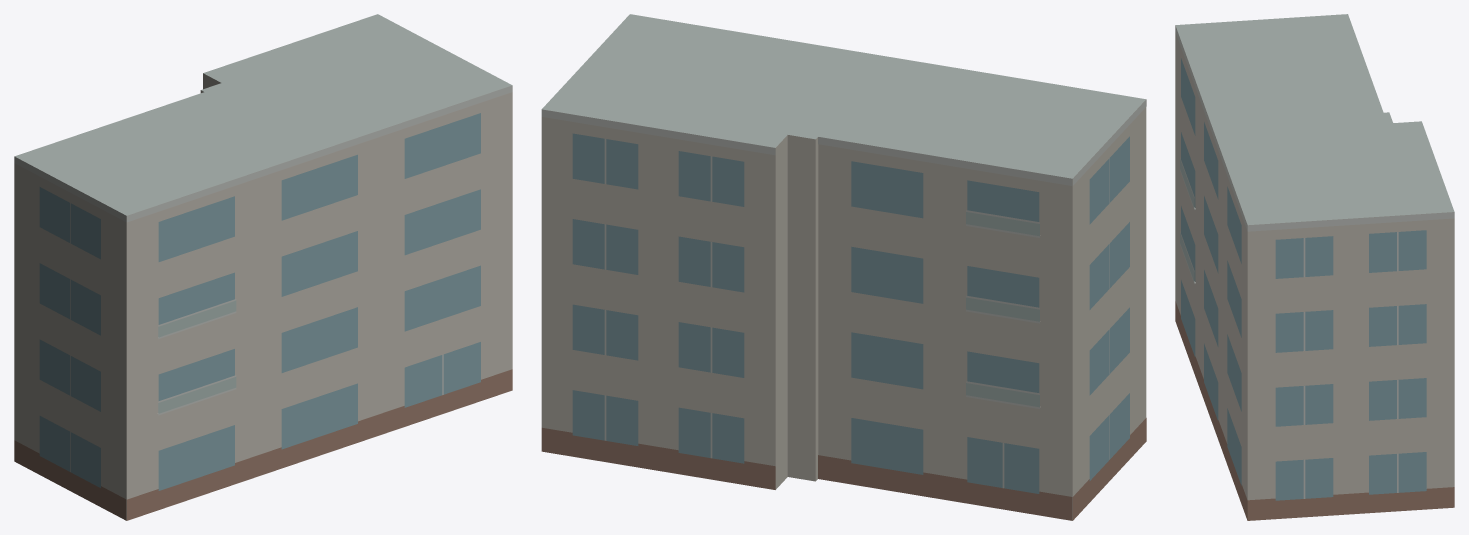
Rendered from survey-upis-33038995.glb.
3 views of the same model, side by side, from view 1: azimuth 30°, elevation 25°; view 2: azimuth 150°, elevation 25°; view 3: azimuth 270°, elevation 25° (orthographic). The views are drawn at different scales.
Visible parts, largest first — view 1: survey-upis-33038995.tmp; view 2: survey-upis-33038995.tmp; view 3: survey-upis-33038995.tmp.
Part boxes in pixels (box(x1,y1,x2,y2)): survey-upis-33038995.tmp: box(14, 14, 512, 520); survey-upis-33038995.tmp: box(541, 14, 1146, 520); survey-upis-33038995.tmp: box(1175, 14, 1454, 520).
Size of the model in its own units: 17.09 by 11.15 by 9.55.
